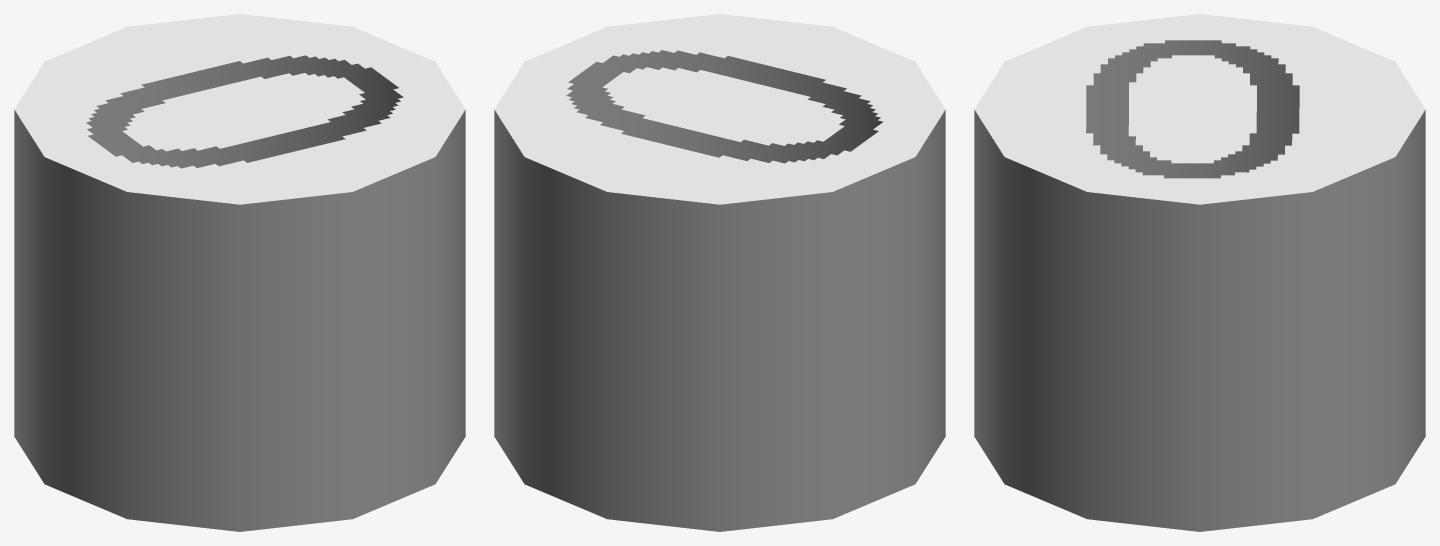
Rendered from digit_button.obj.
3 renders of one model, left to right at view 1: azimuth 30°, elevation 25°; view 2: azimuth 150°, elevation 25°; view 3: azimuth 270°, elevation 25°, orthographic.
Visible parts, largest first — view 1: Cylinder.005_Cylinder; view 2: Cylinder.005_Cylinder; view 3: Cylinder.005_Cylinder.
Boxes of the visible parts, x1,y1,x2,y2 form: Cylinder.005_Cylinder: [14, 14, 465, 531]; Cylinder.005_Cylinder: [494, 14, 945, 531]; Cylinder.005_Cylinder: [974, 14, 1425, 531].
Size of the model in its own units: 0.0135 by 0.0108 by 0.0135.
2 materials, 1 textured.
